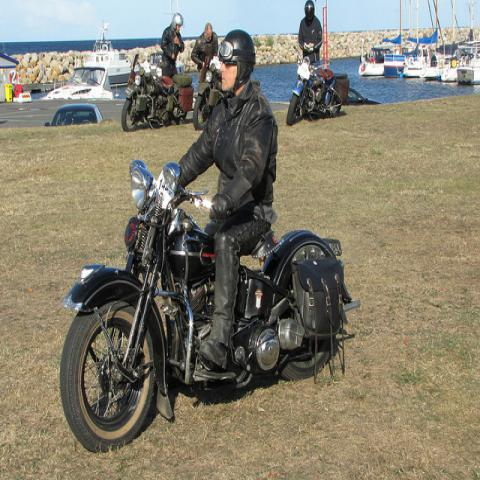car: (43, 103, 104, 126)
motorcycle: (60, 160, 366, 456), (122, 57, 193, 132), (286, 45, 344, 126), (192, 62, 261, 130)
